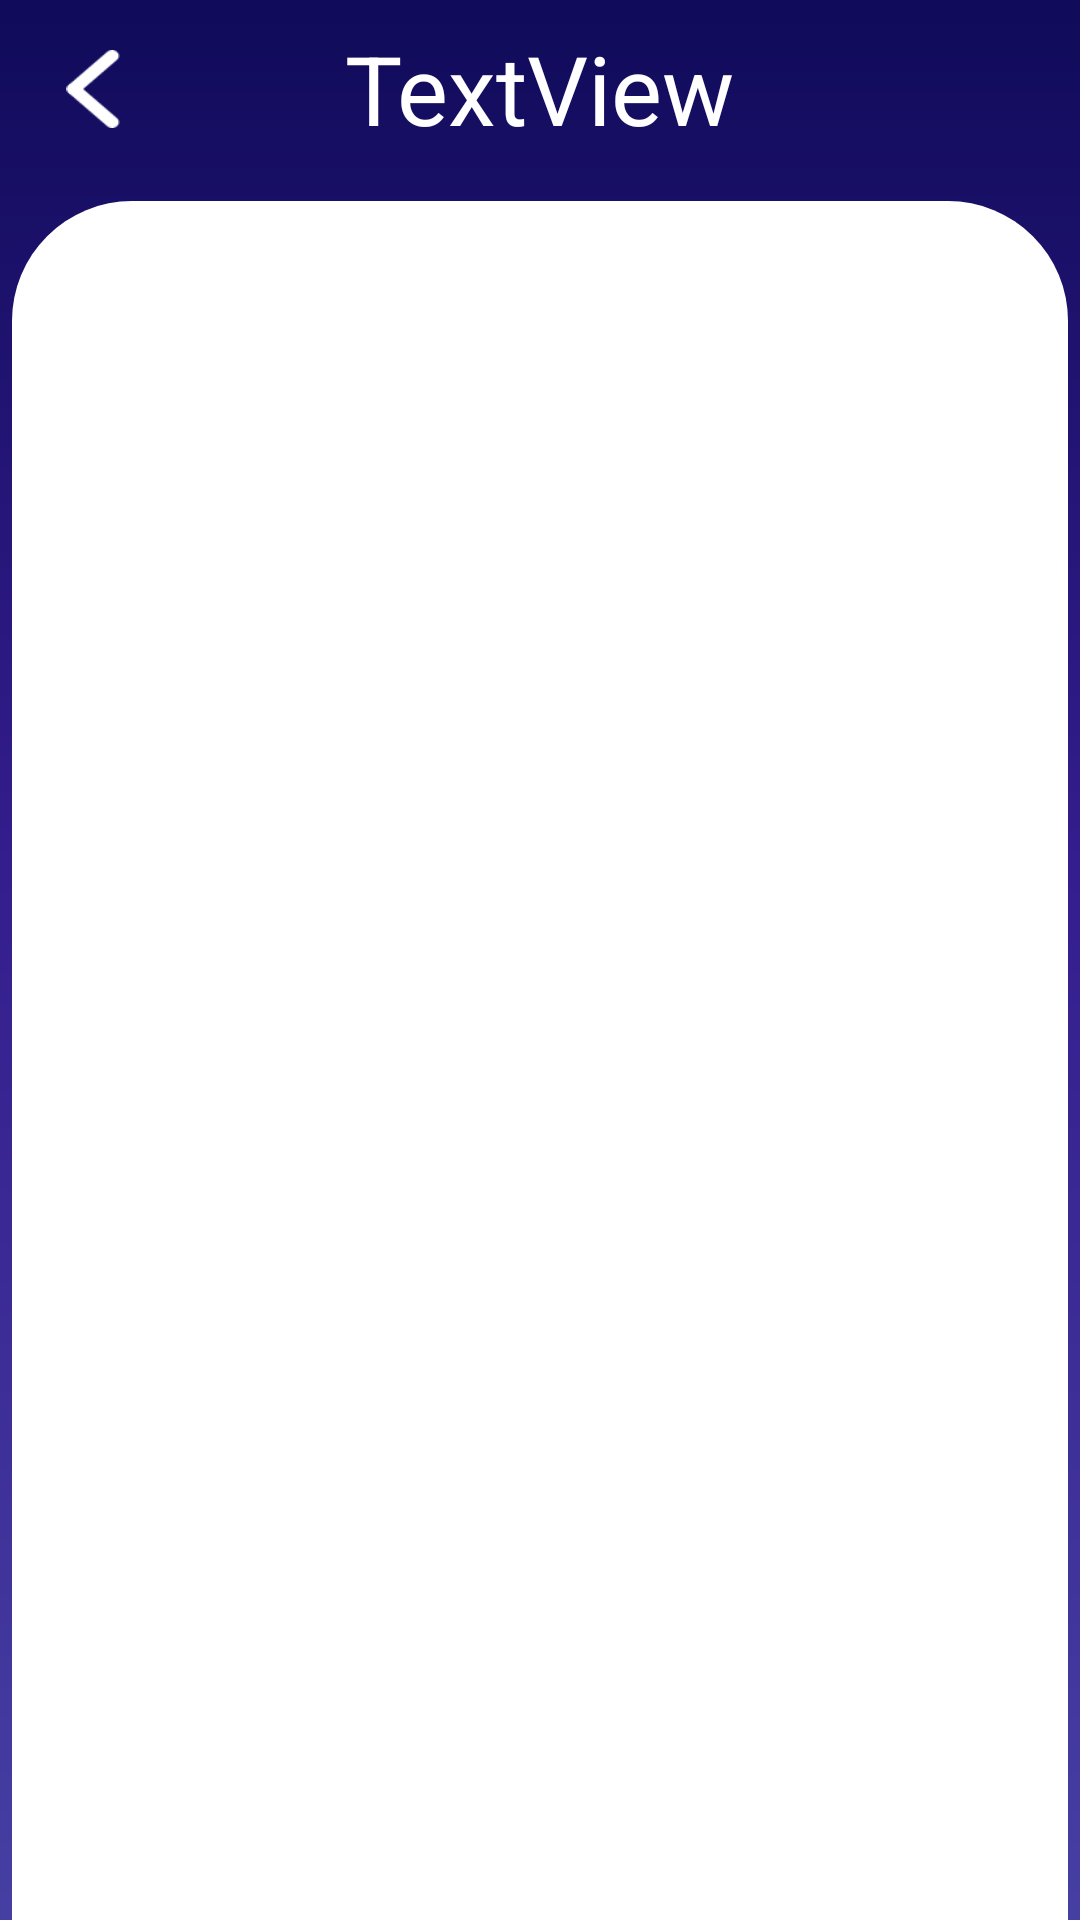

Where icons sit on this 1080×1920 app screen, as [left=x1, top=y1, right=x2, bottom=y2]:
voltar: [left=66, top=50, right=120, bottom=128]
